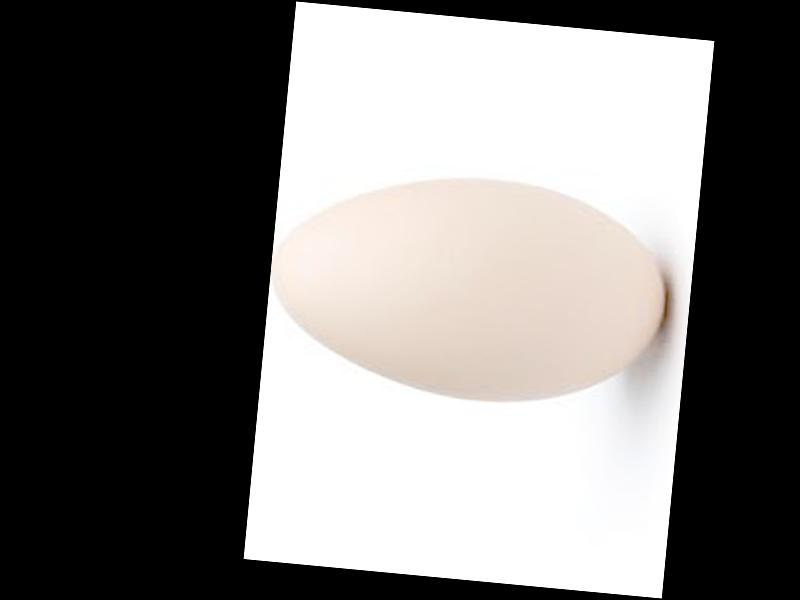Eggs: (263, 161, 677, 417)
